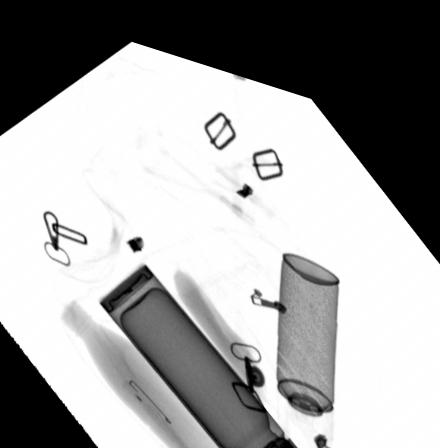Sprayer: (274, 232, 340, 423)
